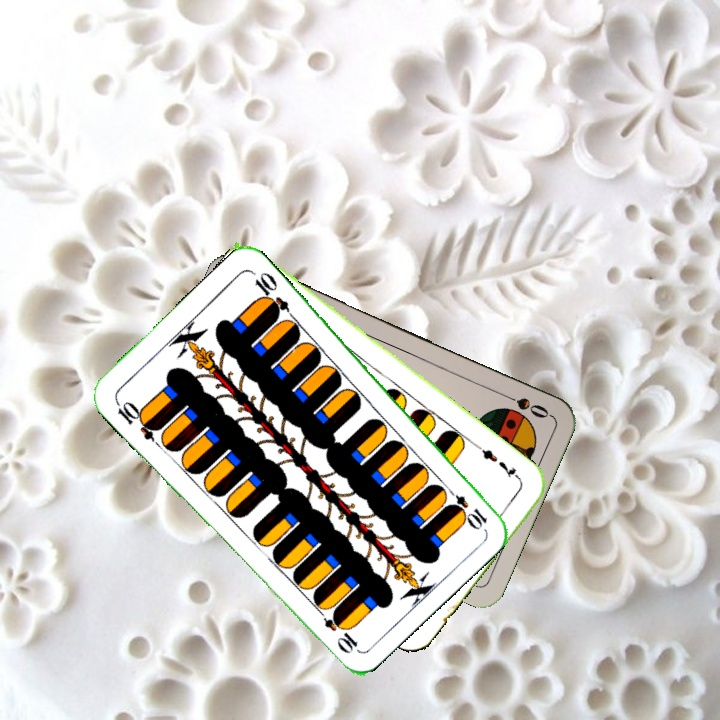E10: (440, 482, 491, 532), (111, 396, 162, 443)
E7: (474, 442, 524, 485)
SO: (496, 388, 553, 421)
